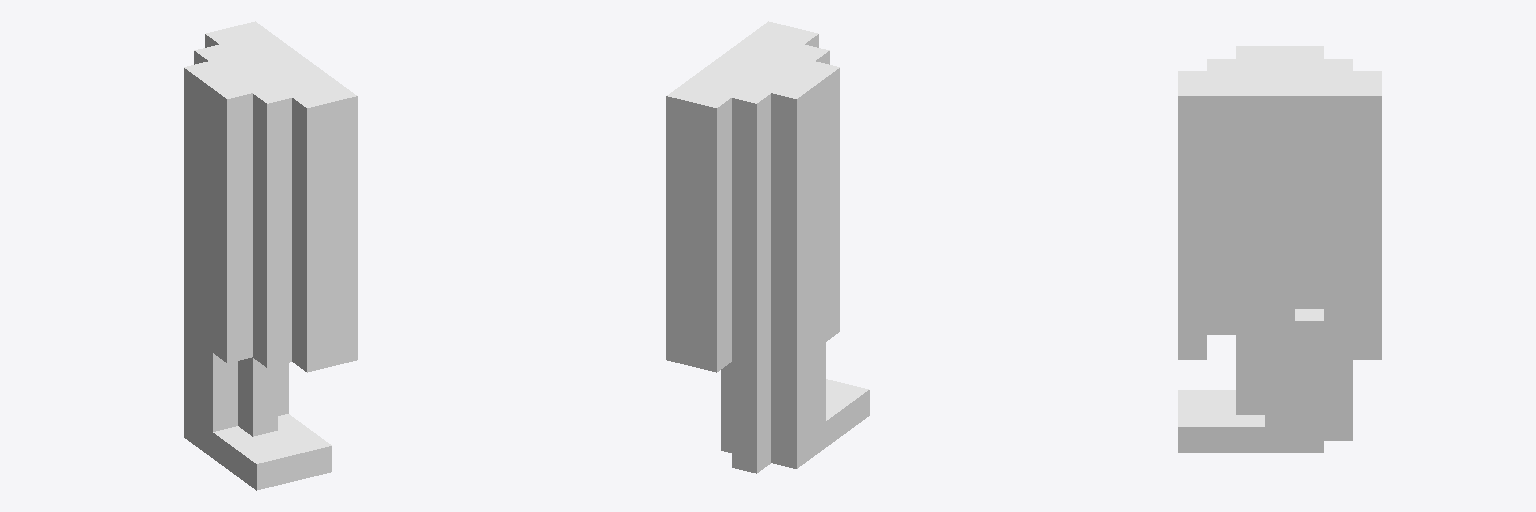
The model's file is char-130-leg_lgt_med_1b_sh_color.obj.
The picture shows the model from 3 angles: view 1: azimuth 30°, elevation 25°; view 2: azimuth 150°, elevation 25°; view 3: azimuth 270°, elevation 25°; orthographic projection.
Parts seen in each view (by area): view 1: leg_lgt_med_1b_sh_color; view 2: leg_lgt_med_1b_sh_color; view 3: leg_lgt_med_1b_sh_color.
Part boxes in pixels (bbox=[...]): leg_lgt_med_1b_sh_color: bbox=[184, 21, 357, 490]; leg_lgt_med_1b_sh_color: bbox=[666, 21, 869, 473]; leg_lgt_med_1b_sh_color: bbox=[1178, 46, 1381, 452].
Bounding box in the file's own units: 0.4 × 1.4 × 0.7.